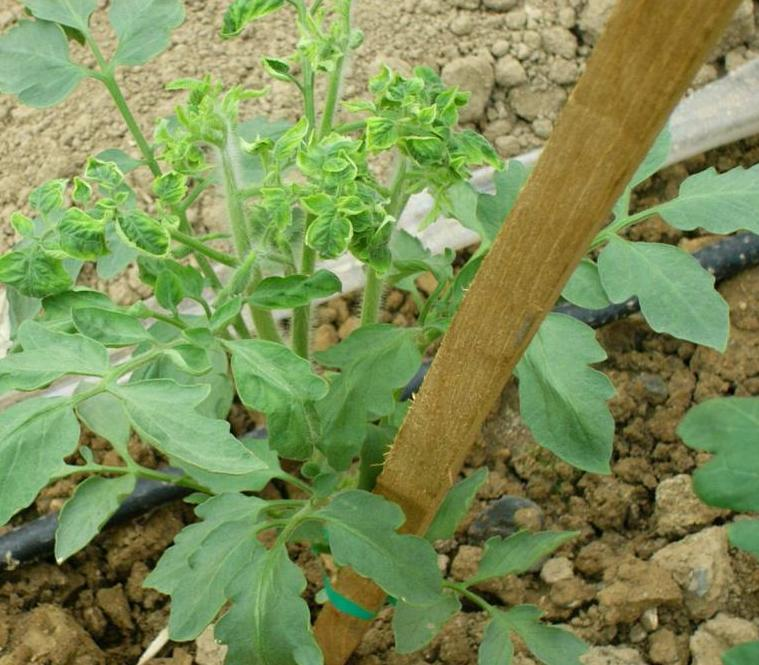Tomato leaf: (83, 356, 252, 469), (308, 312, 430, 459), (521, 308, 623, 470), (609, 229, 733, 354), (322, 488, 446, 611), (214, 538, 327, 665), (153, 518, 267, 641), (0, 393, 79, 558), (648, 147, 759, 252), (0, 17, 88, 113), (51, 467, 139, 561), (92, 0, 186, 85), (461, 520, 581, 584), (70, 302, 158, 352)
